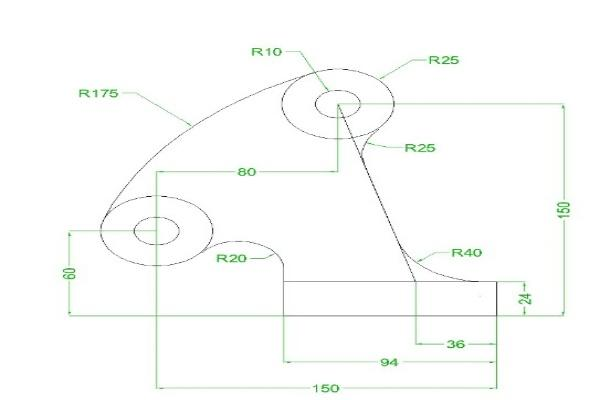dimensions: (68, 84, 123, 102), (208, 248, 251, 268), (425, 50, 465, 71), (400, 139, 441, 158), (242, 44, 286, 60), (449, 246, 488, 263), (310, 378, 344, 397), (235, 161, 260, 182), (377, 354, 402, 374), (58, 263, 79, 284), (554, 199, 574, 220), (514, 291, 537, 308), (446, 334, 467, 352)
